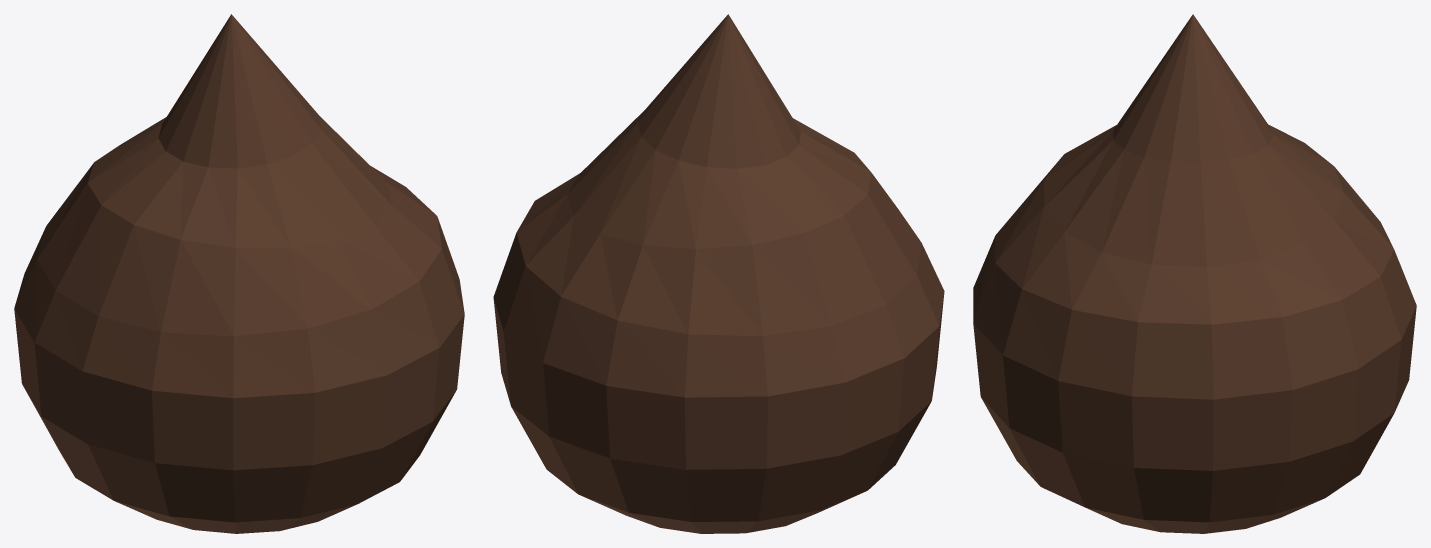
File: ONION.OBJ
3 renders of one model, left to right at view 1: azimuth 30°, elevation 25°; view 2: azimuth 150°, elevation 25°; view 3: azimuth 270°, elevation 25°, orthographic.
Visible parts, largest first — view 1: ONION; view 2: ONION; view 3: ONION.
Part boxes in pixels (x1,y1,x2,y2): ONION: [14, 14, 464, 533]; ONION: [493, 14, 944, 533]; ONION: [973, 14, 1416, 533].
Size of the model in its own units: 0.3121 by 0.3736 by 0.3108.
